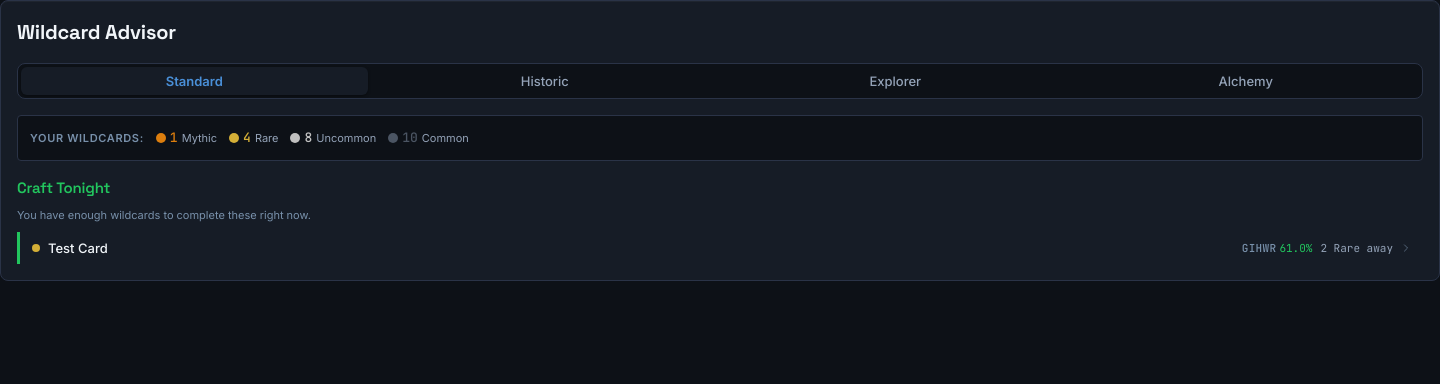
it: WildcardAdvisorPanel › State 2 — data with recommendations › drill-down shows format context when available
What coordinates should you click on to do the following:
click the text "Test Card"
I would click on:
 (78, 248)
Its box is [48,240,108,256].
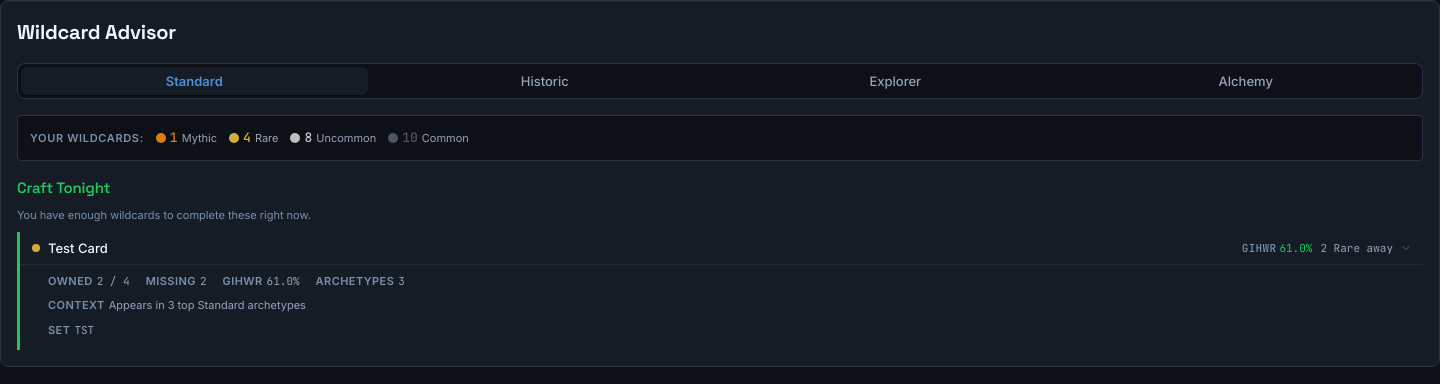
Result: the text "Appears in 3 top Standard archetypes" is shown at [109,297,306,314]
